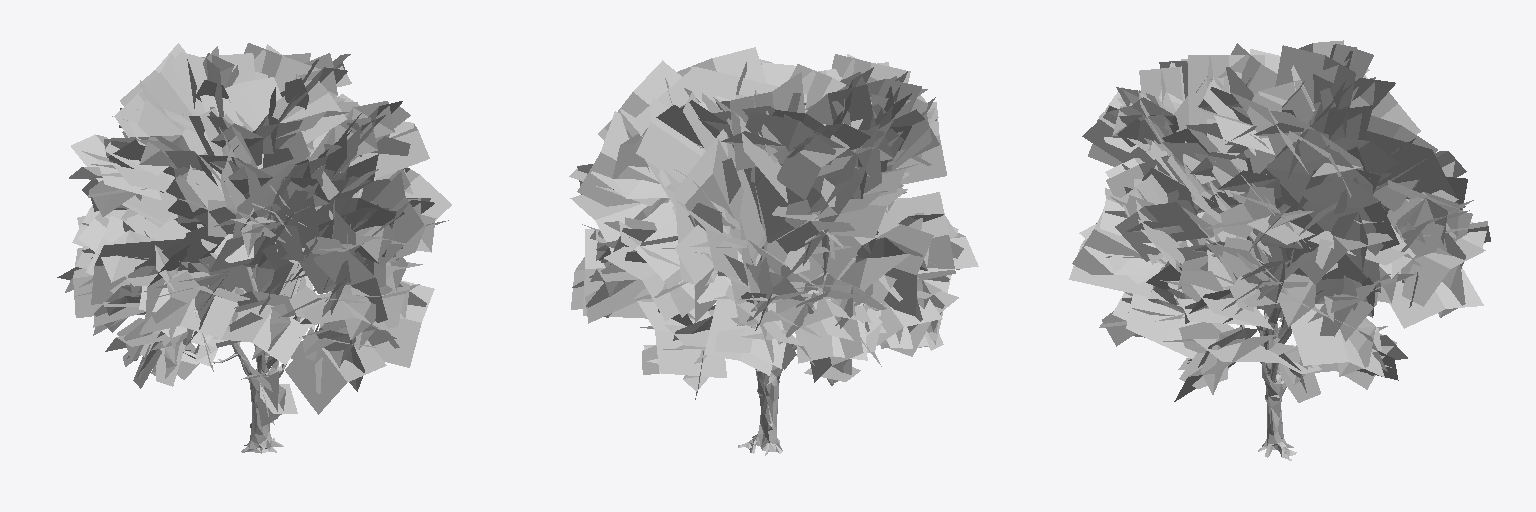
File: prop_tree_eng_oak_creator.obj
The picture shows the model from 3 angles: view 1: azimuth 30°, elevation 25°; view 2: azimuth 150°, elevation 25°; view 3: azimuth 270°, elevation 25°; orthographic projection.
Size of the model in its own units: 15.92 by 17.46 by 17.25.